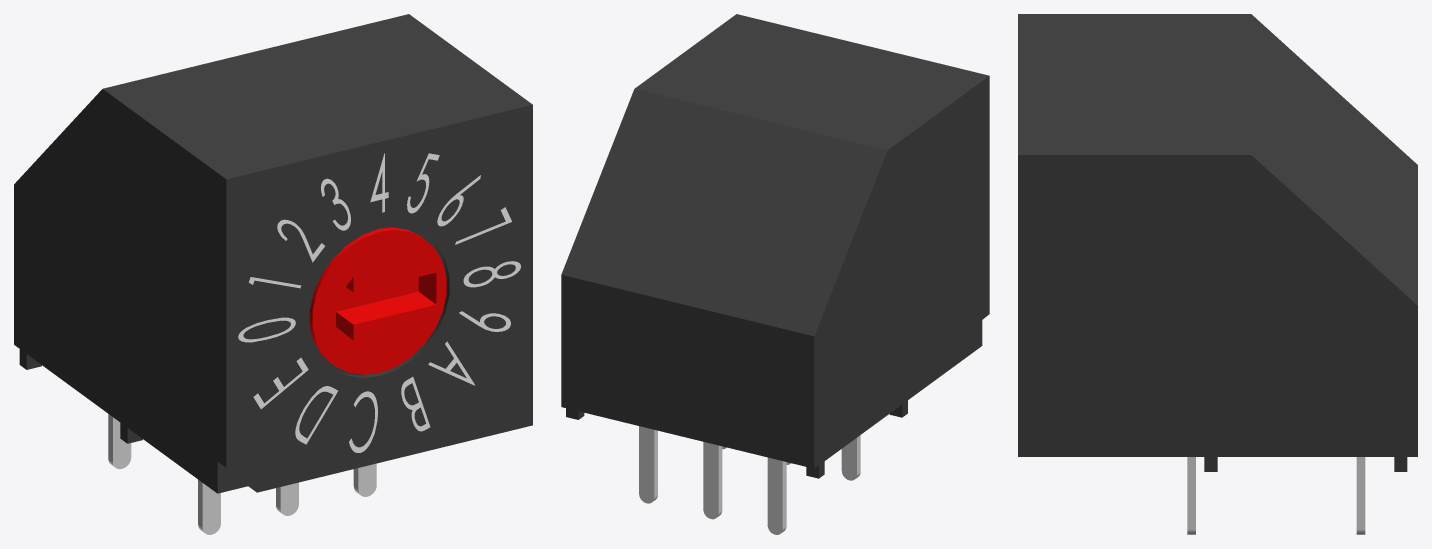
The model's file is DRD16RAE04.glb.
The picture shows the model from 3 angles, left to right: view 1: azimuth 30°, elevation 25°; view 2: azimuth 150°, elevation 25°; view 3: azimuth 270°, elevation 25°; orthographic projection. The views are drawn at different scales.
Visible parts, largest first — view 1: DRD16RAE002; view 2: DRD16RAE002; view 3: DRD16RAE002.
Boxes of the visible parts, x1,y1,x2,y2 form: DRD16RAE002: [14, 14, 532, 534]; DRD16RAE002: [561, 14, 989, 534]; DRD16RAE002: [1018, 14, 1417, 534].
Size of the model in its own units: 0.01 by 0.0137 by 0.012.
